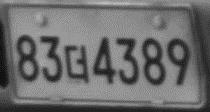3: (114, 37, 140, 85), (38, 34, 63, 83)
4: (91, 36, 115, 84)
8: (141, 38, 167, 86), (15, 35, 39, 80)
9: (166, 38, 190, 86)
더: (62, 43, 90, 83)
